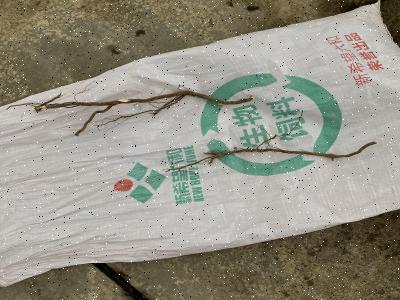Root: (7, 90, 254, 136), (194, 141, 376, 163)
